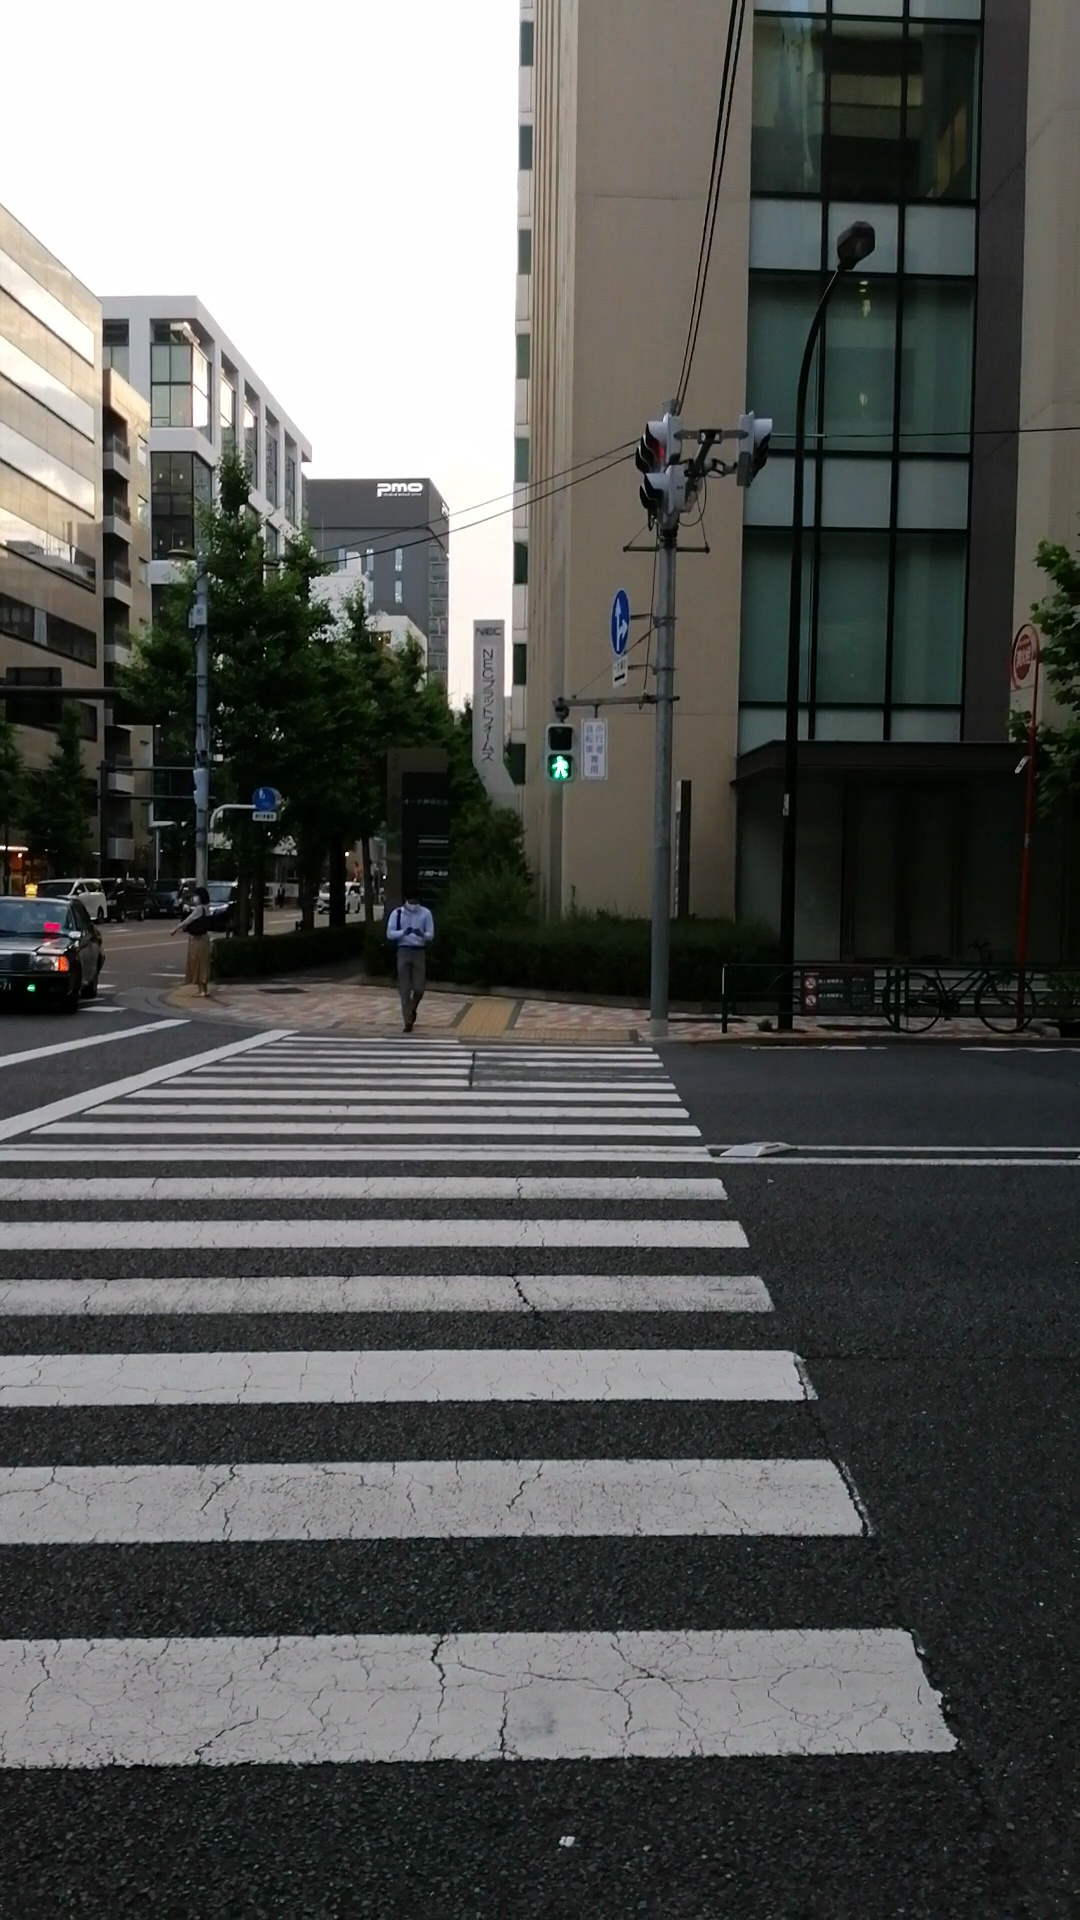green: (545, 723, 576, 785)
